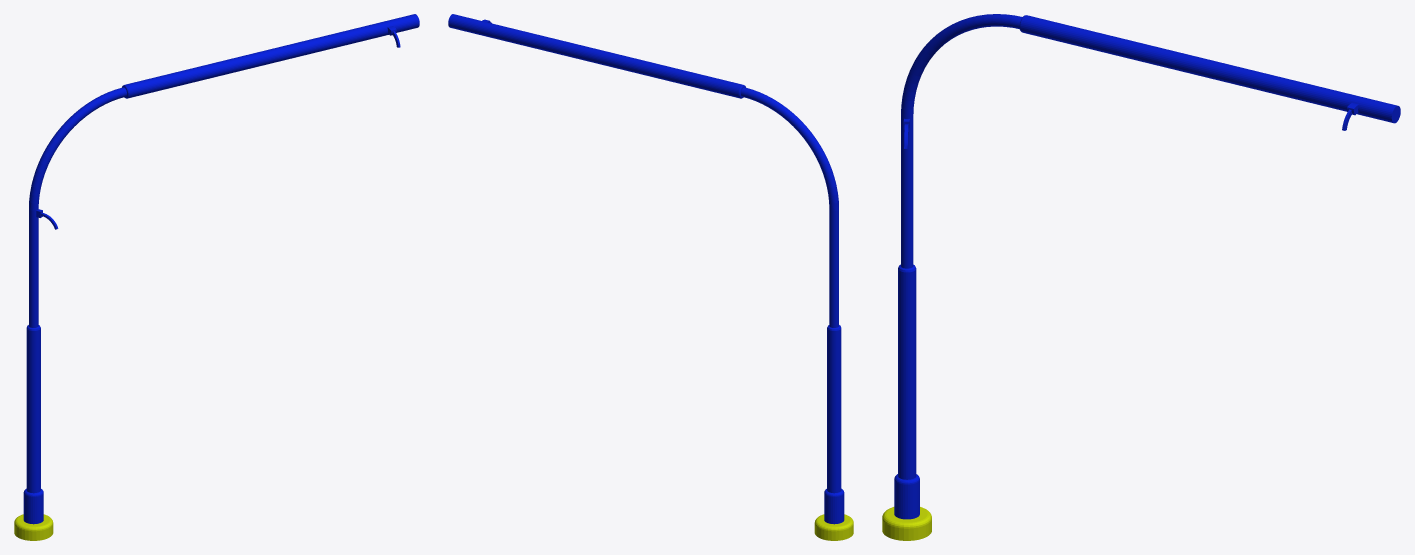
File: sloup1.fbx
3 renders of one model, left to right at view 1: azimuth 30°, elevation 25°; view 2: azimuth 150°, elevation 25°; view 3: azimuth 330°, elevation 25°, orthographic. The views are drawn at different scales.
Visible parts, largest first — view 1: sloup; view 2: sloup; view 3: sloup.
Boxes of the visible parts, <box> form: sloup: <box>14,14,419,540</box>; sloup: <box>448,14,853,540</box>; sloup: <box>882,14,1400,540</box>.
Size of the model in its own units: 425 by 432 by 41.44.
